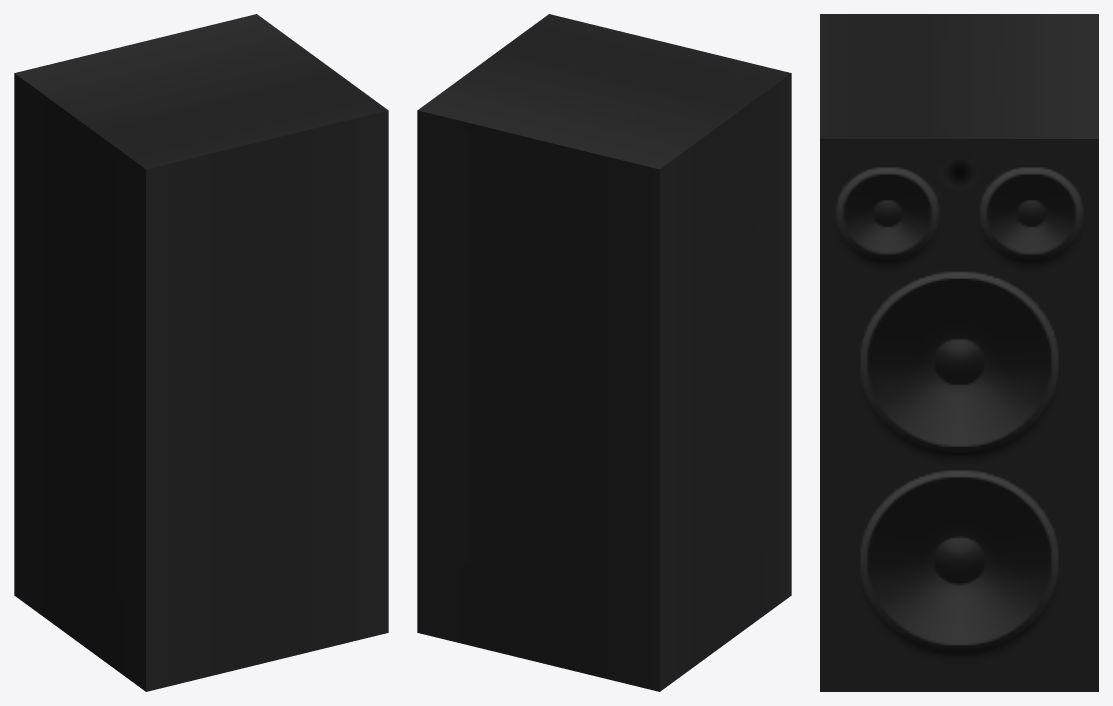
The model's file is InteriorItem_011.fbx.
The picture shows the model from 3 angles, left to right: view 1: azimuth 30°, elevation 25°; view 2: azimuth 150°, elevation 25°; view 3: azimuth 270°, elevation 25°; orthographic projection. The views are drawn at different scales.
Visible parts, largest first — view 1: BlueChip_Interior.185; view 2: BlueChip_Interior.185; view 3: BlueChip_Interior.185.
Part boxes in pixels (x1,y1,x2,y2): BlueChip_Interior.185: [14, 14, 388, 691]; BlueChip_Interior.185: [417, 14, 791, 691]; BlueChip_Interior.185: [820, 14, 1098, 691].
Bounding box in the file's own units: 35.2 × 72.51 × 33.13.
